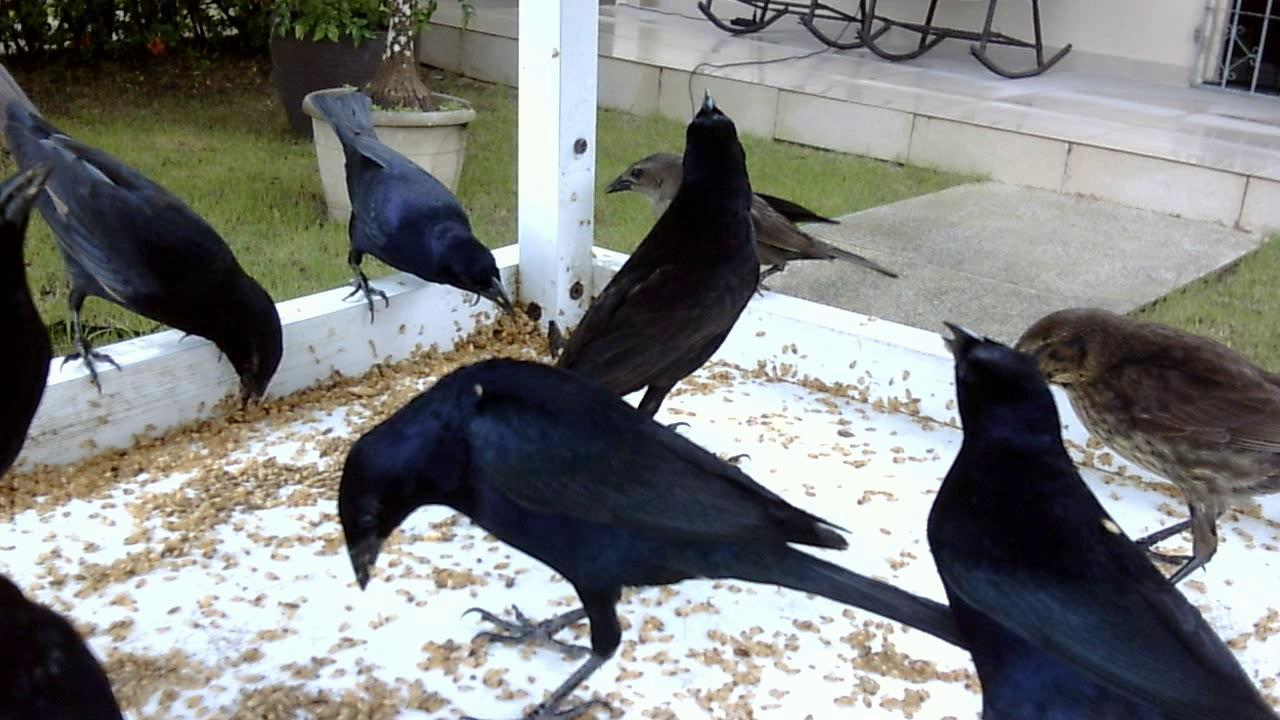chupim: (327, 326, 909, 720), (924, 317, 1280, 720), (1, 55, 296, 431), (551, 94, 830, 439), (996, 289, 1280, 617), (606, 143, 893, 340), (297, 80, 512, 329), (1, 150, 90, 506)
